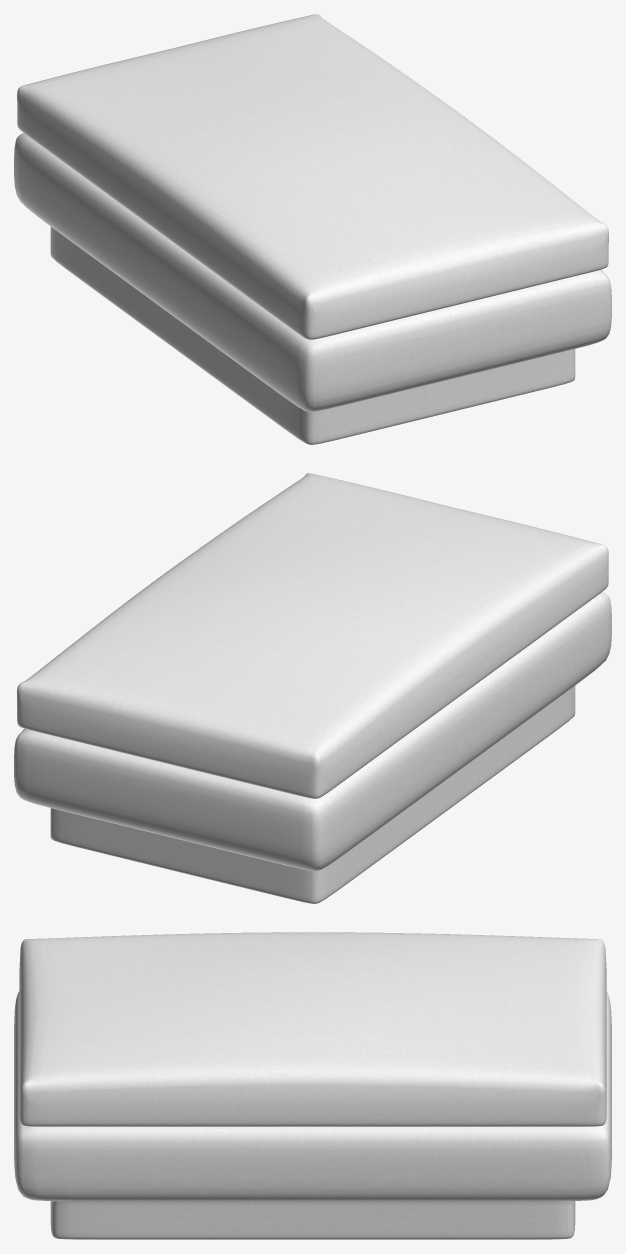
Rendered from Pouf.glb.
The picture shows the model from 3 angles, top to bottom: view 1: azimuth 30°, elevation 25°; view 2: azimuth 150°, elevation 25°; view 3: azimuth 270°, elevation 25°; orthographic projection.
Visible parts, largest first — view 1: Pouf seat, Pouf bottom; view 2: Pouf seat, Pouf bottom; view 3: Pouf seat, Pouf bottom.
Boxes of the visible parts, x1,y1,x2,y2 form: Pouf seat: (17, 14, 608, 339); Pouf bottom: (14, 133, 611, 444); Pouf seat: (17, 473, 608, 798); Pouf bottom: (14, 592, 611, 903); Pouf seat: (19, 932, 606, 1126); Pouf bottom: (14, 991, 611, 1239).
Bounding box in the file's own units: 0.4488 × 0.2561 × 0.7479.
1 material, 1 textured.
